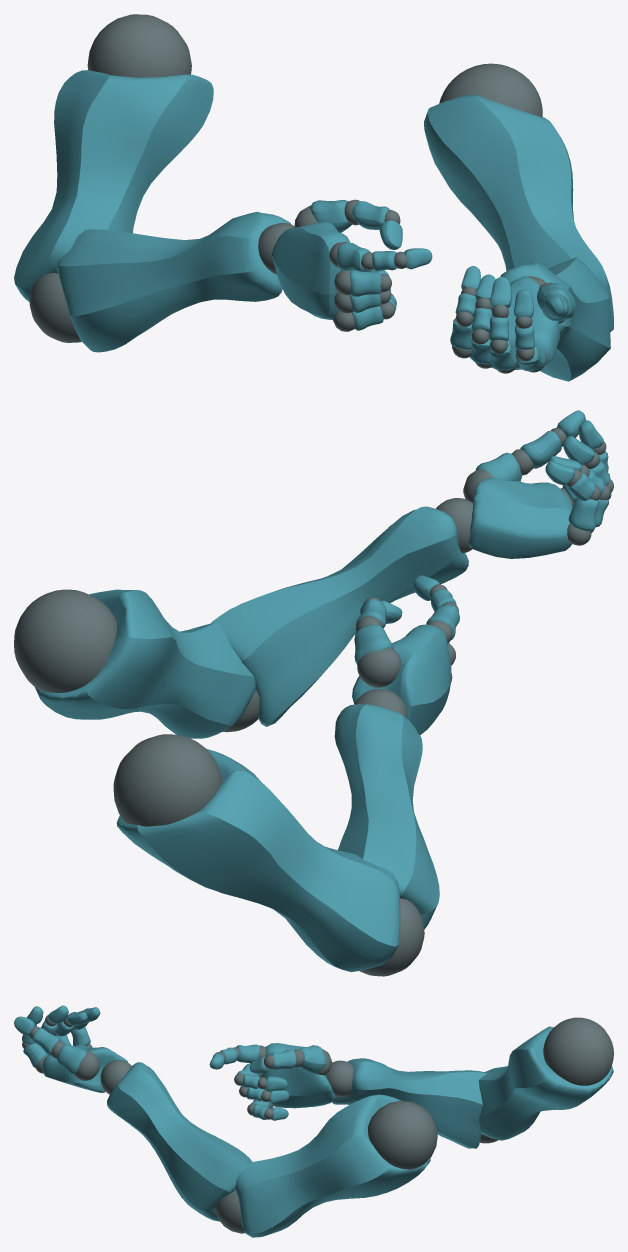
Rendered from MOD_Brazos.fbx.
3 views of the same model, one above another, from view 1: azimuth 30°, elevation 25°; view 2: azimuth 150°, elevation 25°; view 3: azimuth 270°, elevation 25° (orthographic). The views are drawn at different scales.
Visible parts, largest first — view 1: Arms; view 2: Arms; view 3: Arms.
Boxes of the visible parts, x1=… form: Arms: x1=14, y1=14, x2=613, y2=381; Arms: x1=14, y1=410, x2=613, y2=976; Arms: x1=14, y1=1005, x2=613, y2=1237.
Size of the model in its own units: 52.88 by 29.02 by 89.08.
